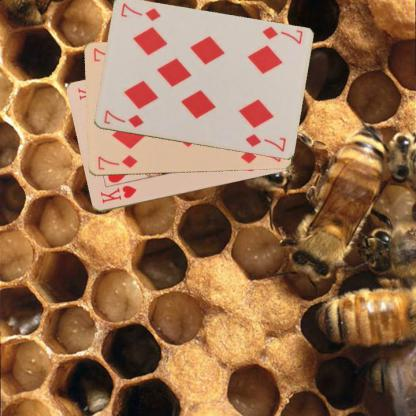7d: (259, 23, 304, 46), (101, 107, 145, 130), (95, 153, 139, 171)
Kh: (97, 182, 138, 204)
